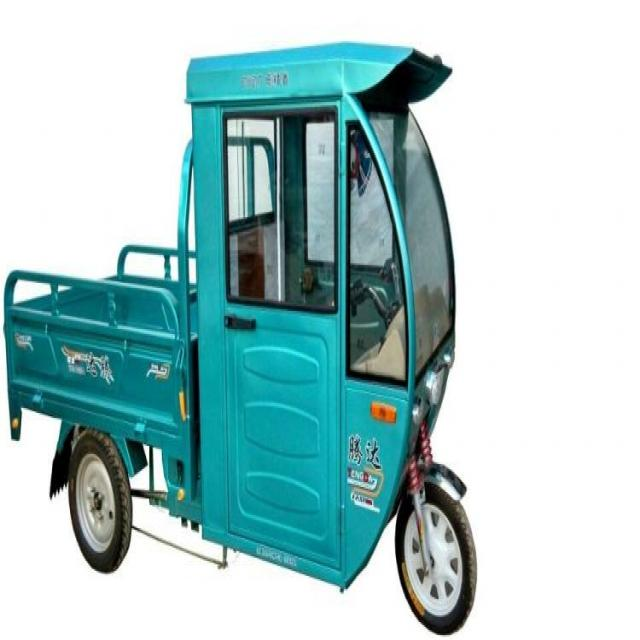tricycle: (3, 35, 474, 635)
